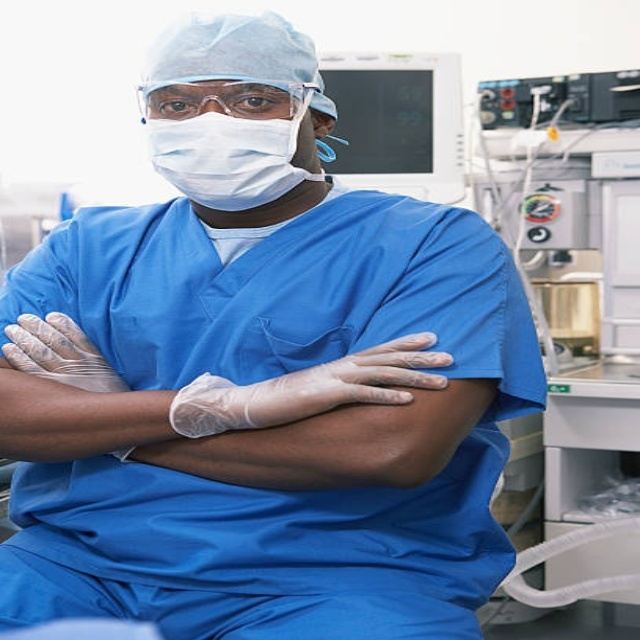Gafas: (137, 80, 319, 124)
Guantes: (173, 331, 455, 438), (2, 310, 141, 458)
Mascara: (144, 111, 322, 207)
